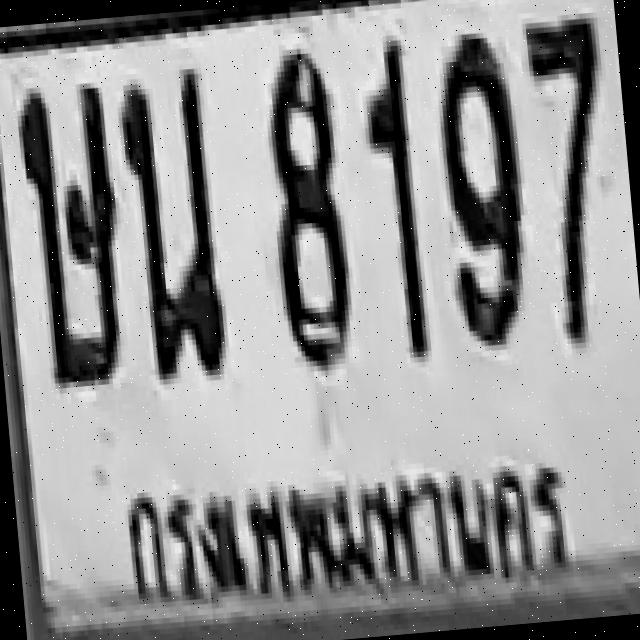1: (356, 45, 428, 339), (355, 37, 425, 315)
34NorNu: (116, 65, 229, 383), (123, 150, 230, 383), (115, 65, 218, 268)
48SorRueSi: (12, 78, 132, 392)
7: (523, 12, 622, 334), (523, 12, 617, 271)
8: (254, 44, 354, 372)
9: (430, 28, 533, 350)
Bangkok: (106, 435, 583, 632)
